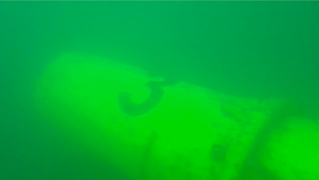3: (118, 72, 179, 116)
pipe: (33, 50, 319, 180)
